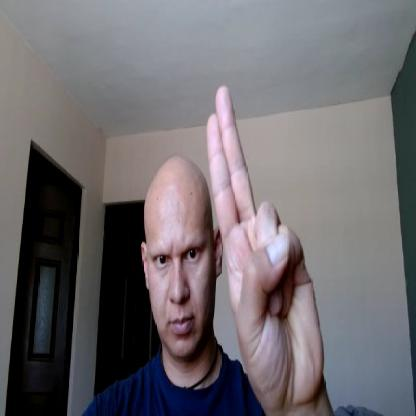U: (205, 81, 325, 408)
